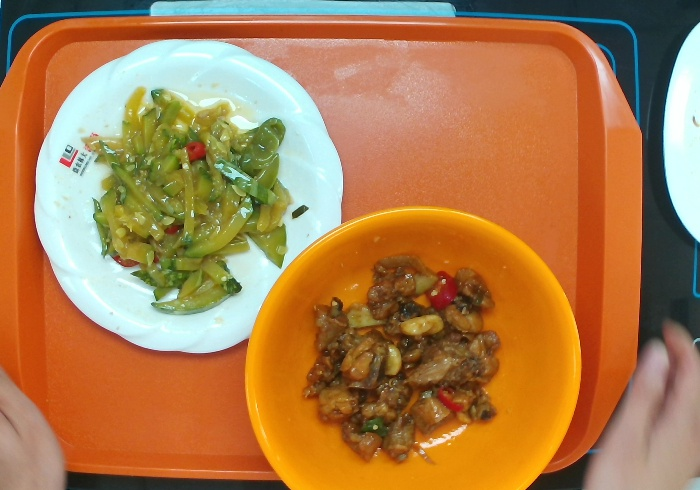ZNLD-Hua_Bian_Wan: (27, 30, 351, 362)
ZNLD-Ju_Se_Tang_Wan: (238, 199, 588, 490)
